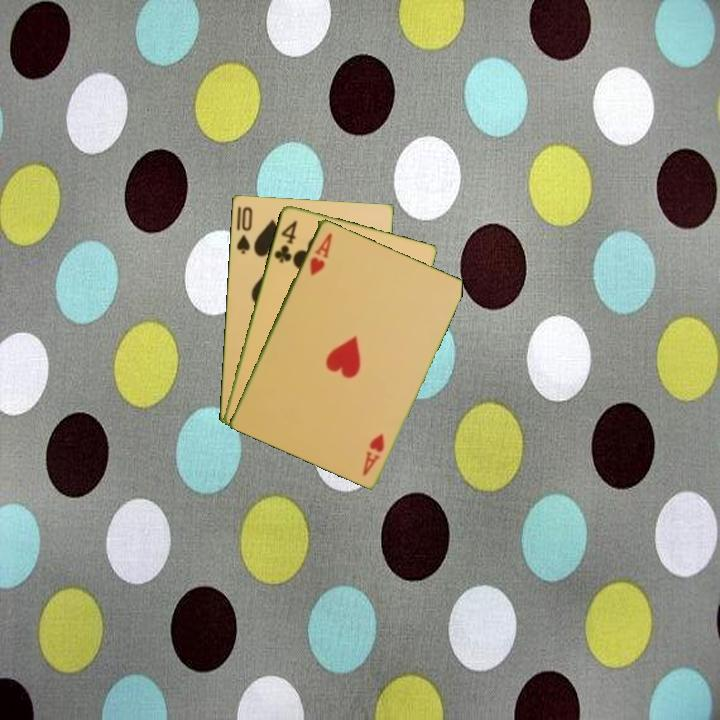10s: (233, 203, 255, 256)
4c: (270, 216, 300, 266)
Ah: (306, 229, 335, 278), (359, 429, 387, 478)
